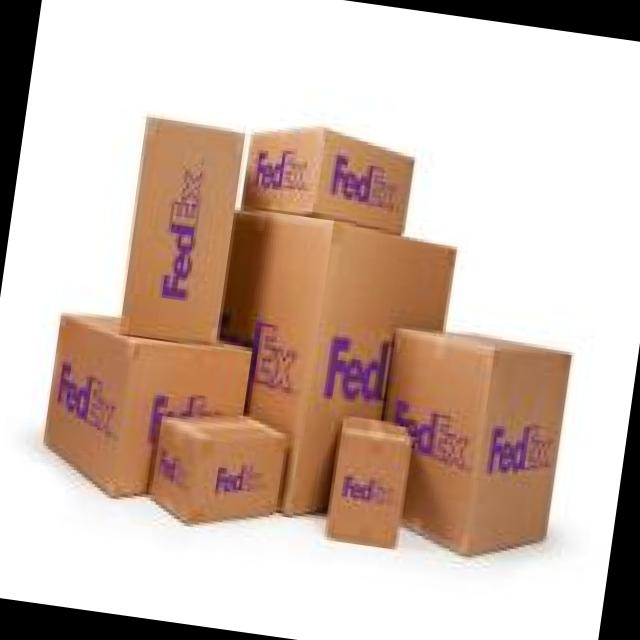box: (216, 209, 460, 520), (383, 325, 575, 562), (43, 313, 254, 502), (121, 117, 246, 350), (240, 126, 418, 239), (149, 413, 293, 528), (321, 413, 415, 552)
